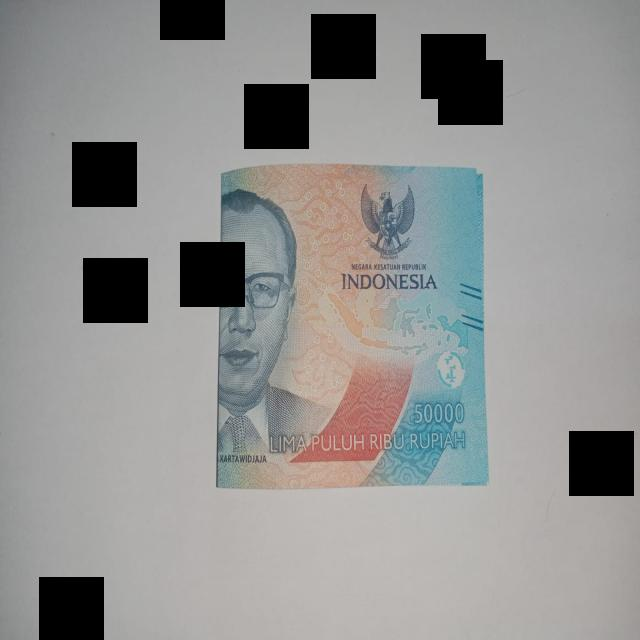lima puluh ribu rupiah: (218, 165, 488, 488)
